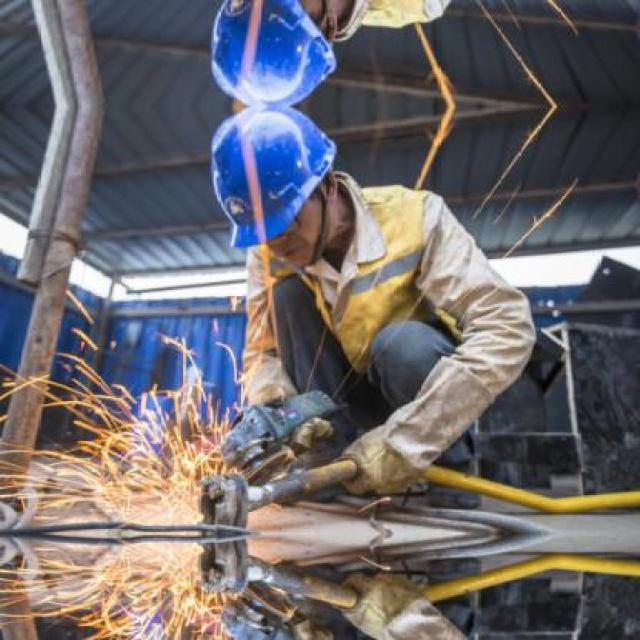helmet: (192, 106, 356, 268), (192, 0, 356, 106)
